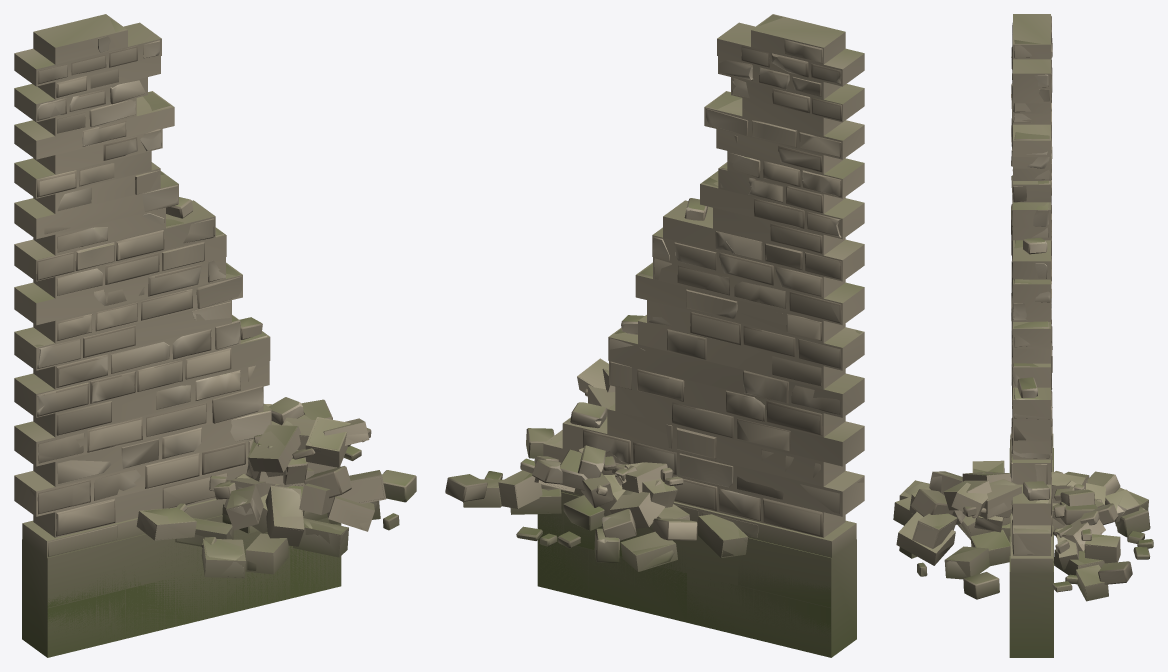
The model's file is wall_broken.glb.
3 views of the same model, side by side, from view 1: azimuth 30°, elevation 25°; view 2: azimuth 150°, elevation 25°; view 3: azimuth 270°, elevation 25° (orthographic). The views are drawn at different scales.
Visible parts, largest first — view 1: wall_broken_far, wall_broken; view 2: wall_broken_far, wall_broken; view 3: wall_broken_far, wall_broken.
Boxes of the visible parts, box(x1,y1,x2,y2) form: wall_broken_far: box(14, 14, 386, 657); wall_broken: box(29, 19, 416, 643); wall_broken_far: box(463, 14, 864, 657); wall_broken: box(445, 15, 863, 641); wall_broken_far: box(893, 14, 1148, 657); wall_broken: box(905, 16, 1153, 600).
Bounding box in the file's own units: 22.64 × 36.52 × 16.43.
